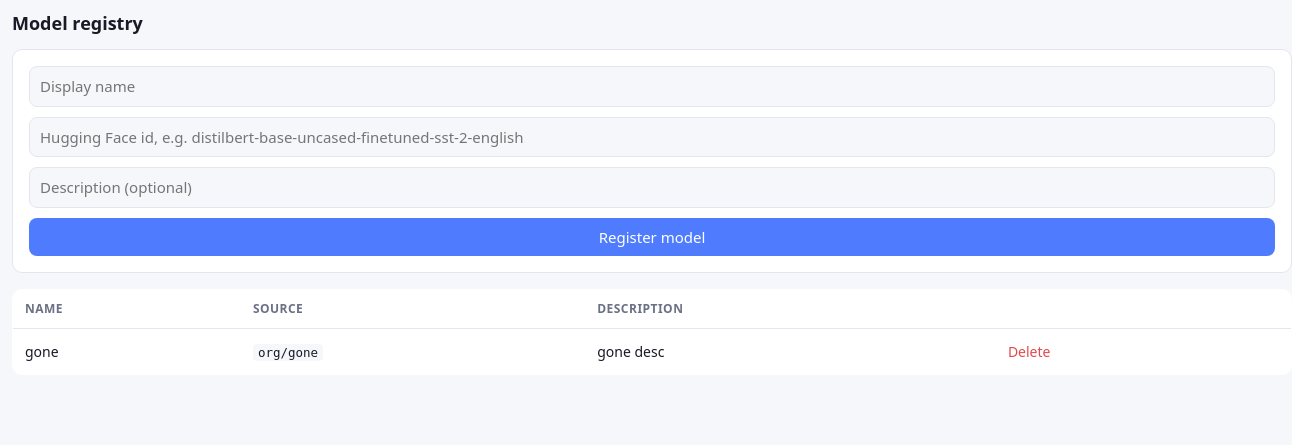
Scenario: ModelsPanel › delete failure is reported
Click the button with aria-label "Delete gone": [1029, 352] box [1000,339,1058,364]
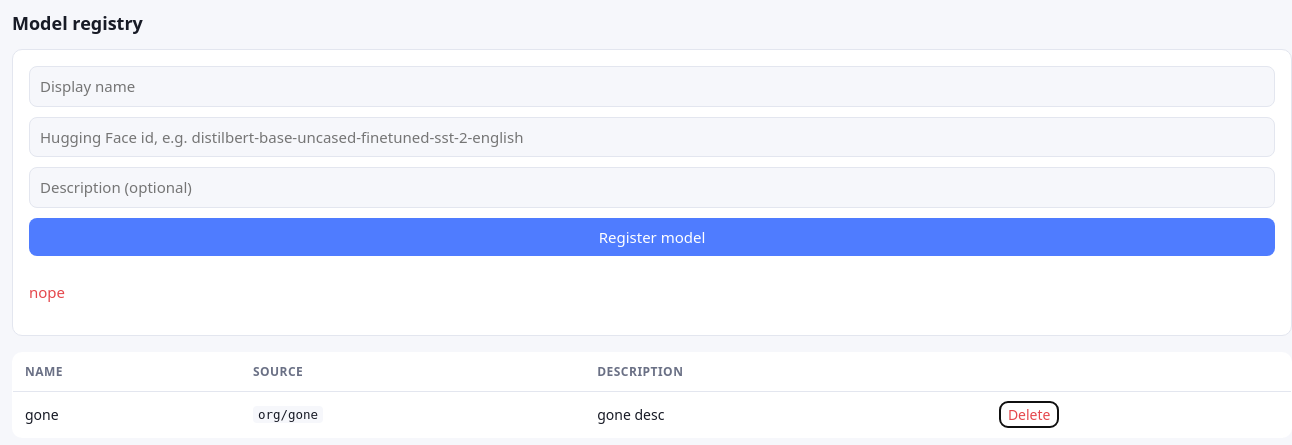
Expected: the message reads "nope", [29,282,65,302]
